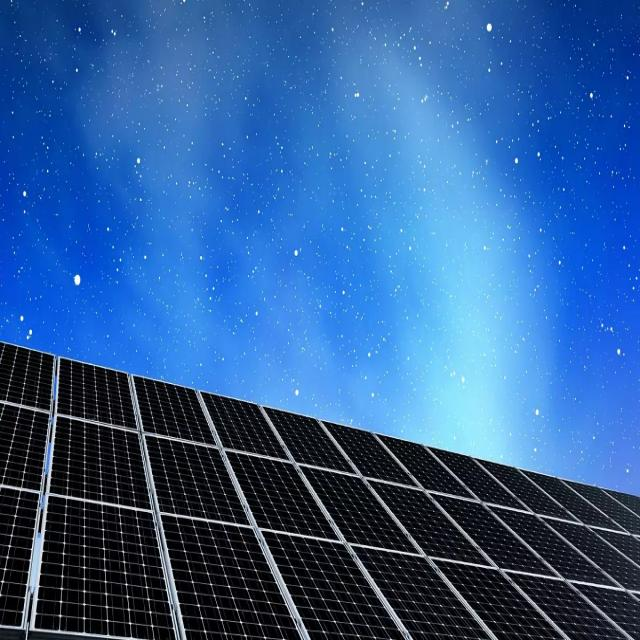clean-solar-panel: (1, 342, 640, 640)
